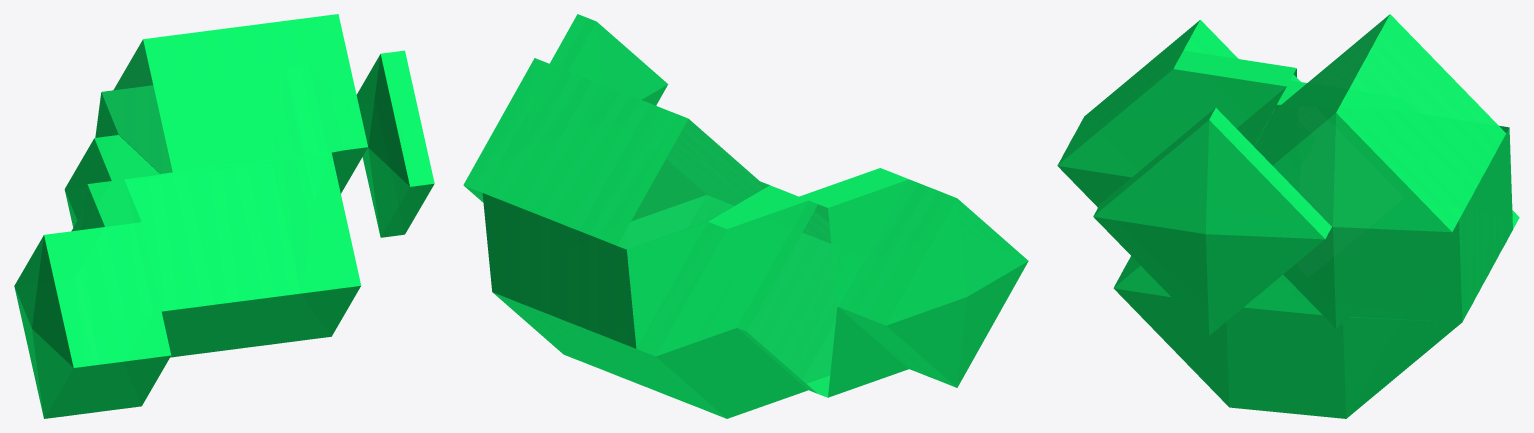
File: SVV_Fragment18.gltf
The picture shows the model from 3 angles, left to right: view 1: azimuth 30°, elevation 25°; view 2: azimuth 150°, elevation 25°; view 3: azimuth 270°, elevation 25°; orthographic projection. The views are drawn at different scales.
Visible parts, largest first — view 1: Fragment18; view 2: Fragment18; view 3: Fragment18.
Part boxes in pixels (box(x1,y1,x2,y2)): Fragment18: box(14, 14, 434, 418); Fragment18: box(463, 14, 1028, 418); Fragment18: box(1057, 14, 1519, 418).
Size of the model in its own units: 3014 by 1972 by 2545.
